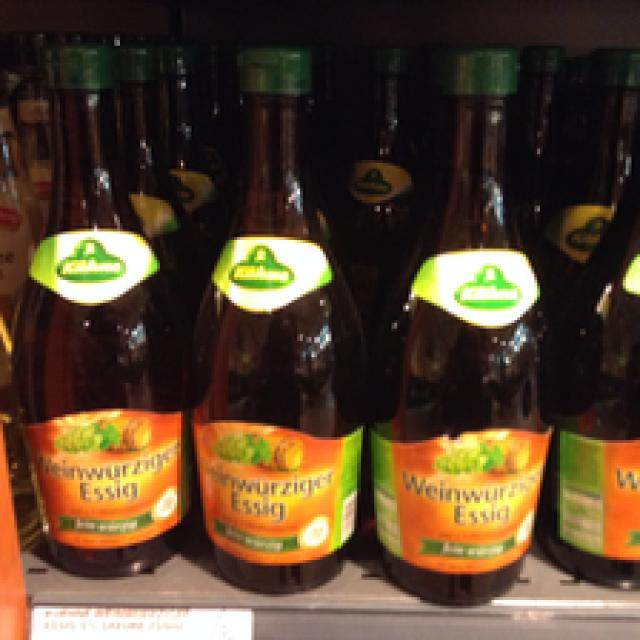groceries: (372, 46, 554, 603), (14, 37, 200, 580), (191, 46, 360, 594), (560, 100, 637, 591)
